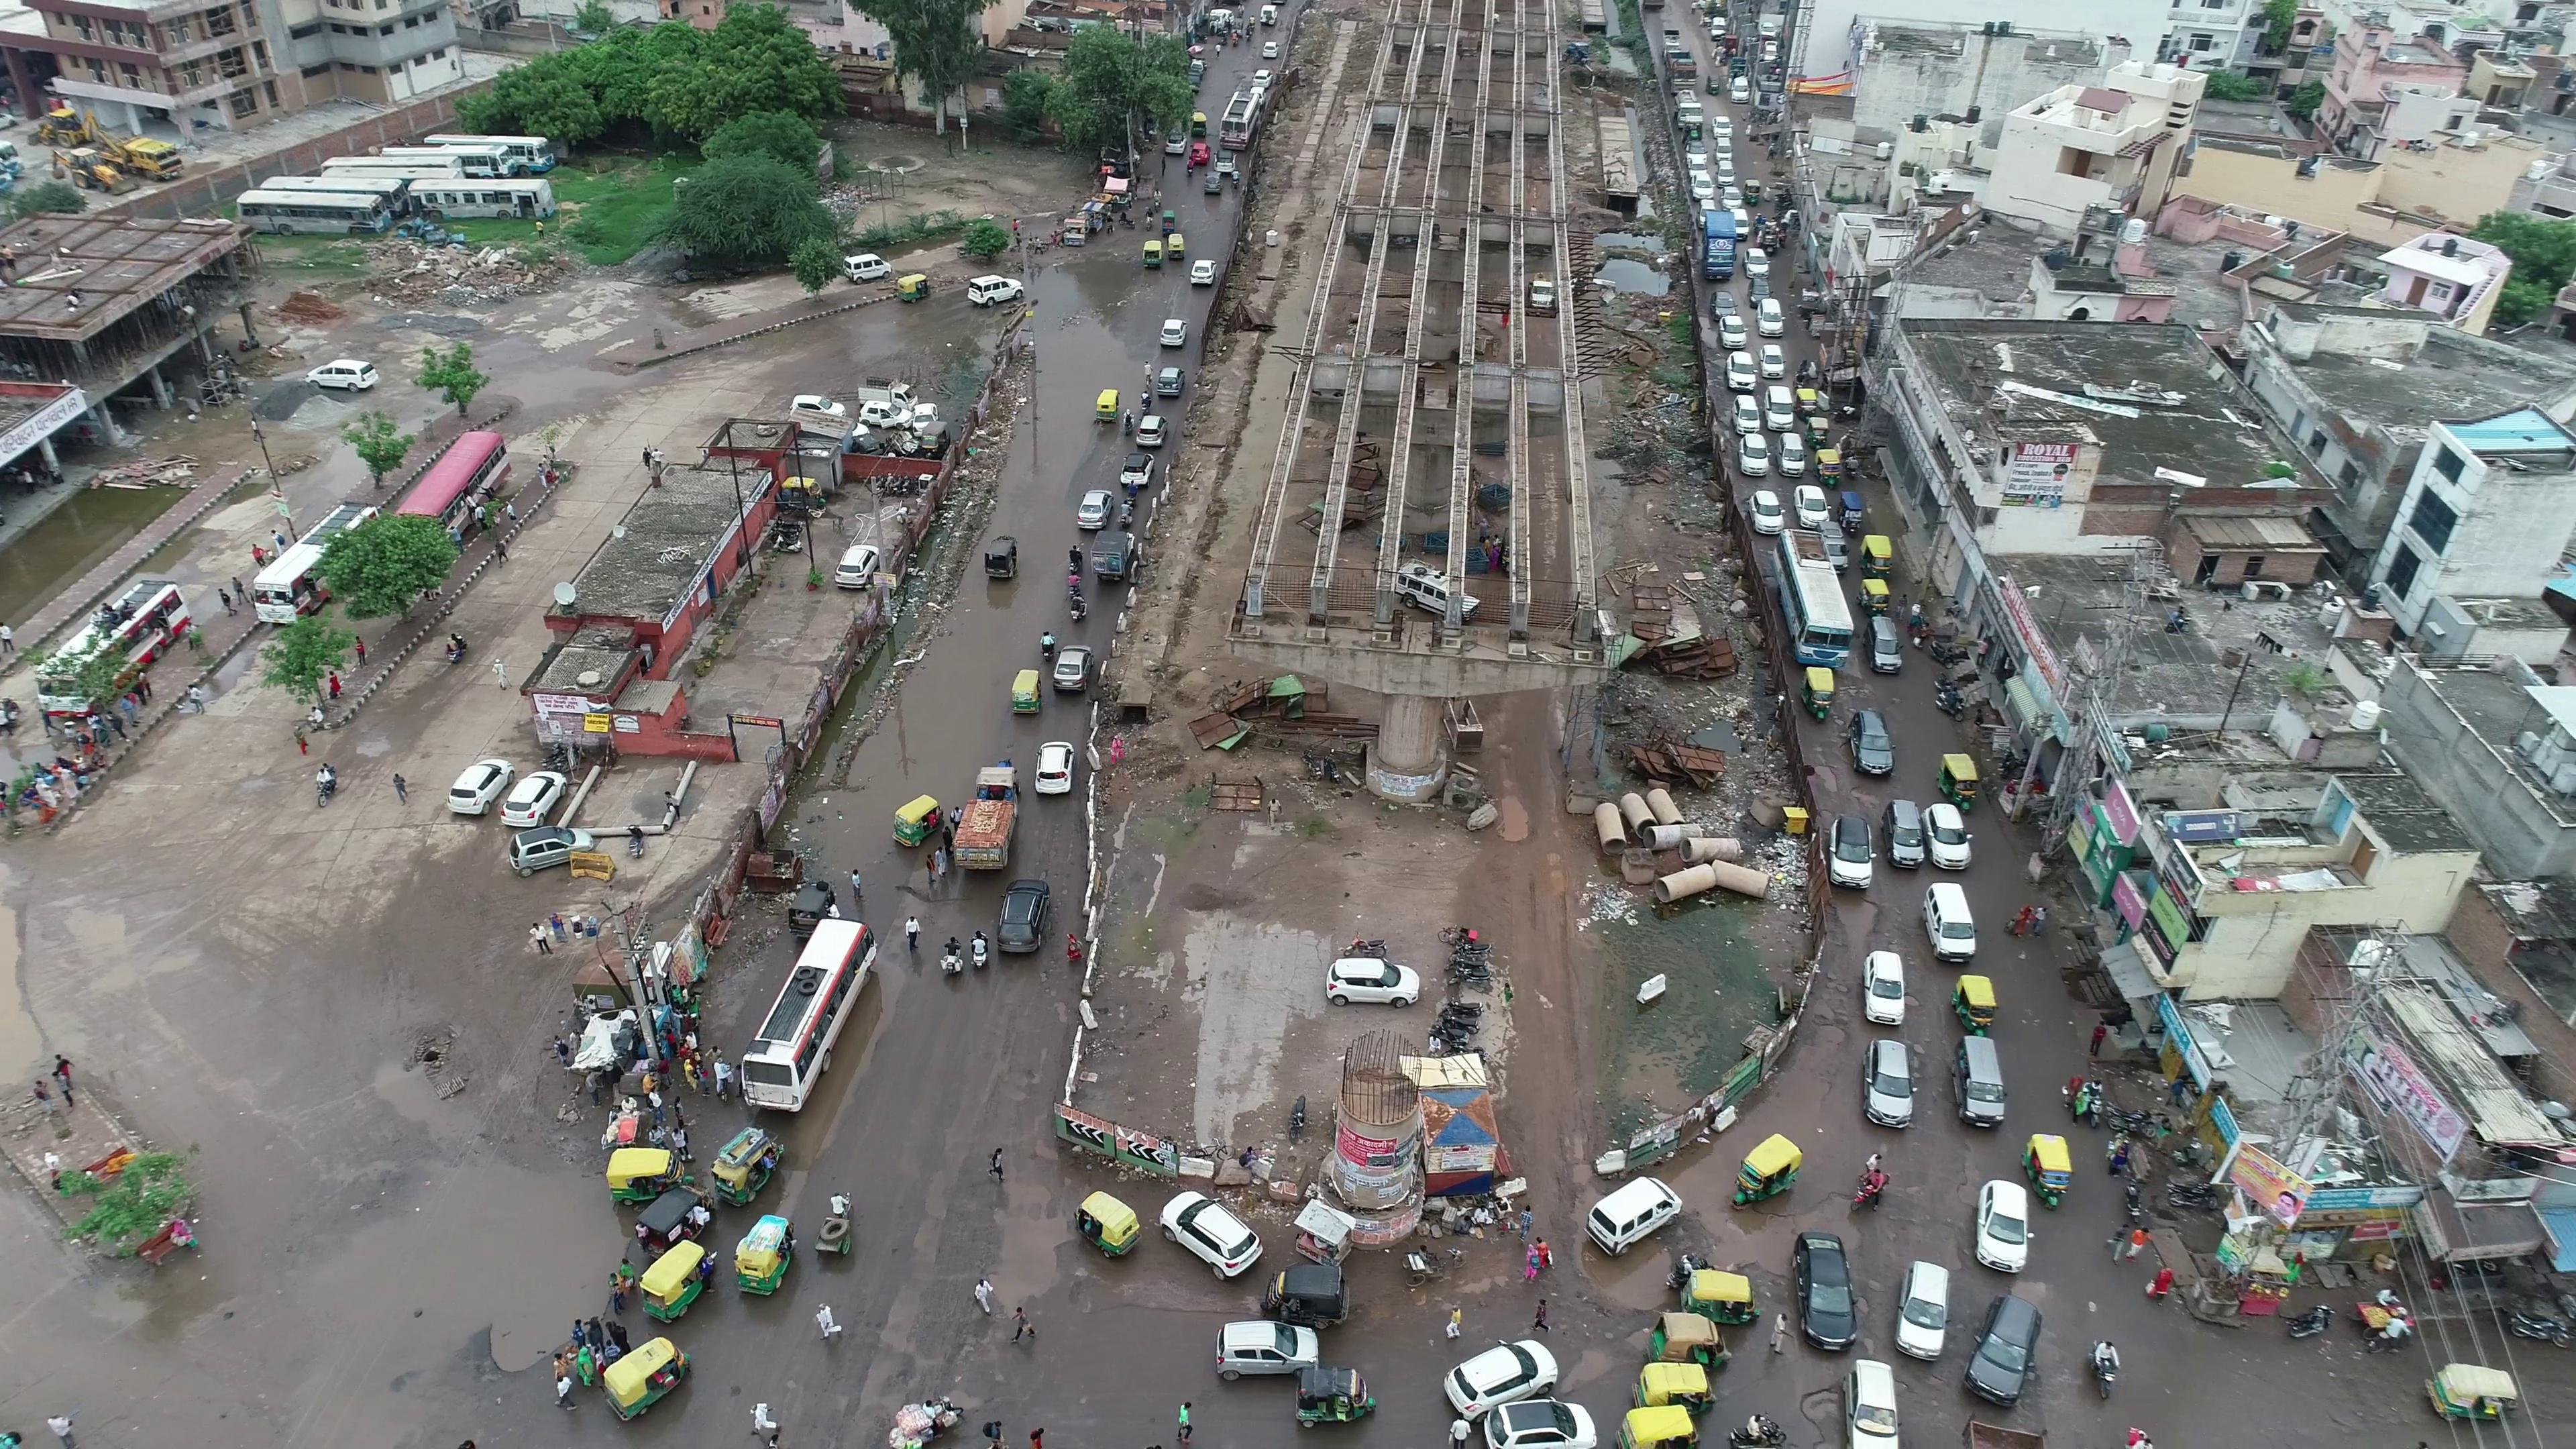Waterlogging: (807, 619, 1007, 812), (1014, 253, 1131, 446), (1037, 823, 1077, 888)
